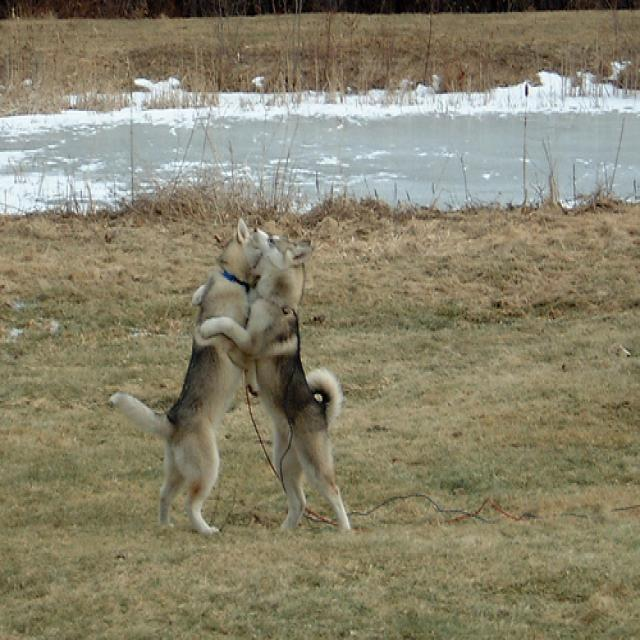dog: (110, 220, 280, 534), (190, 237, 357, 534)
